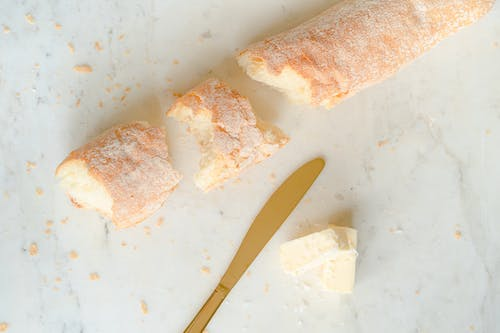knife: (179, 156, 328, 333)
